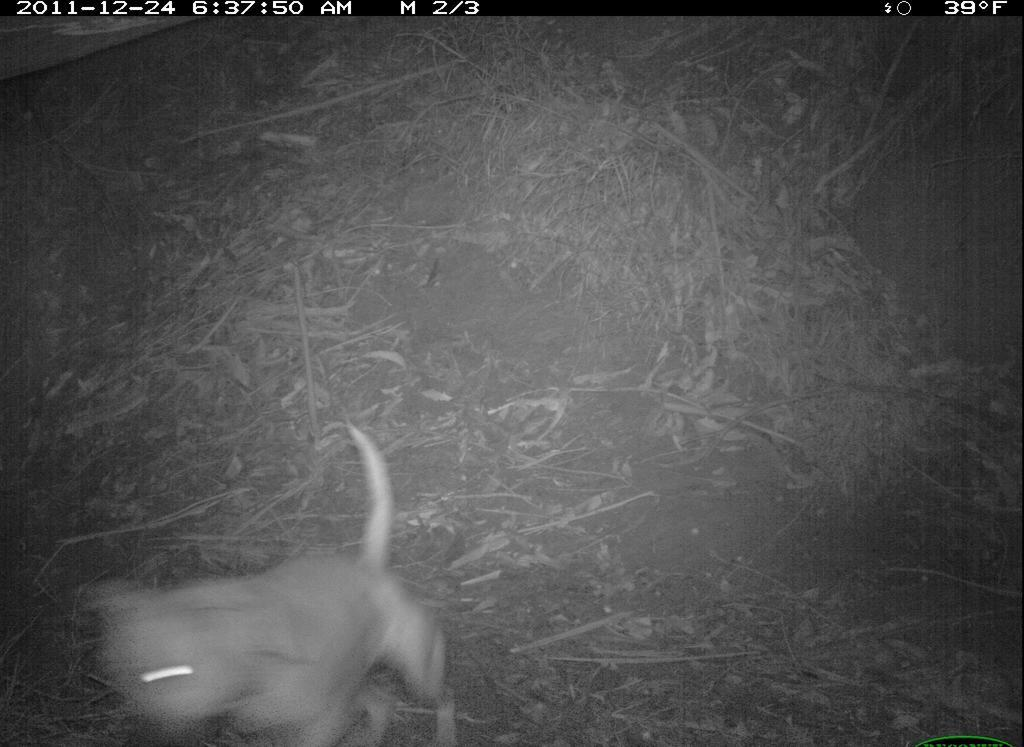dog: (94, 409, 475, 744)
